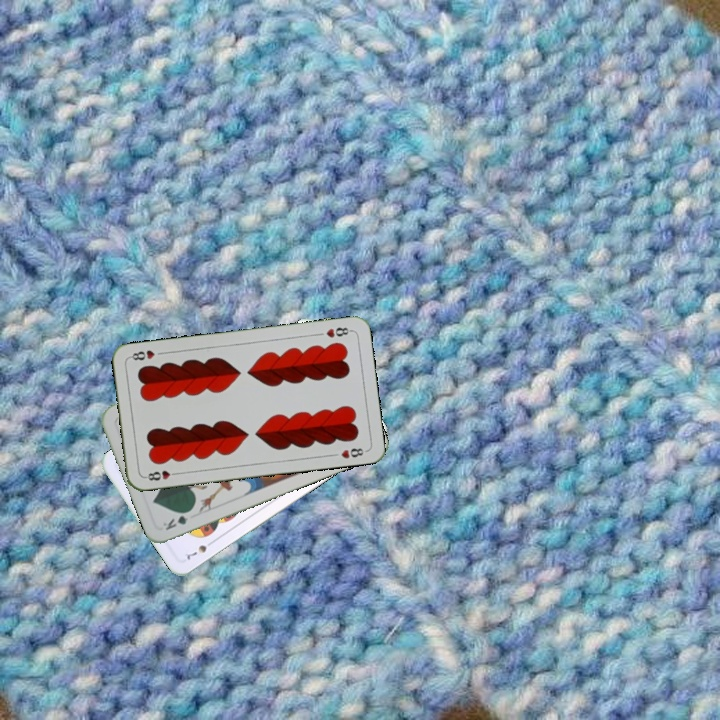GK: (159, 506, 196, 533)
H8: (141, 466, 181, 483), (322, 323, 354, 340)
S7: (182, 536, 217, 563)
